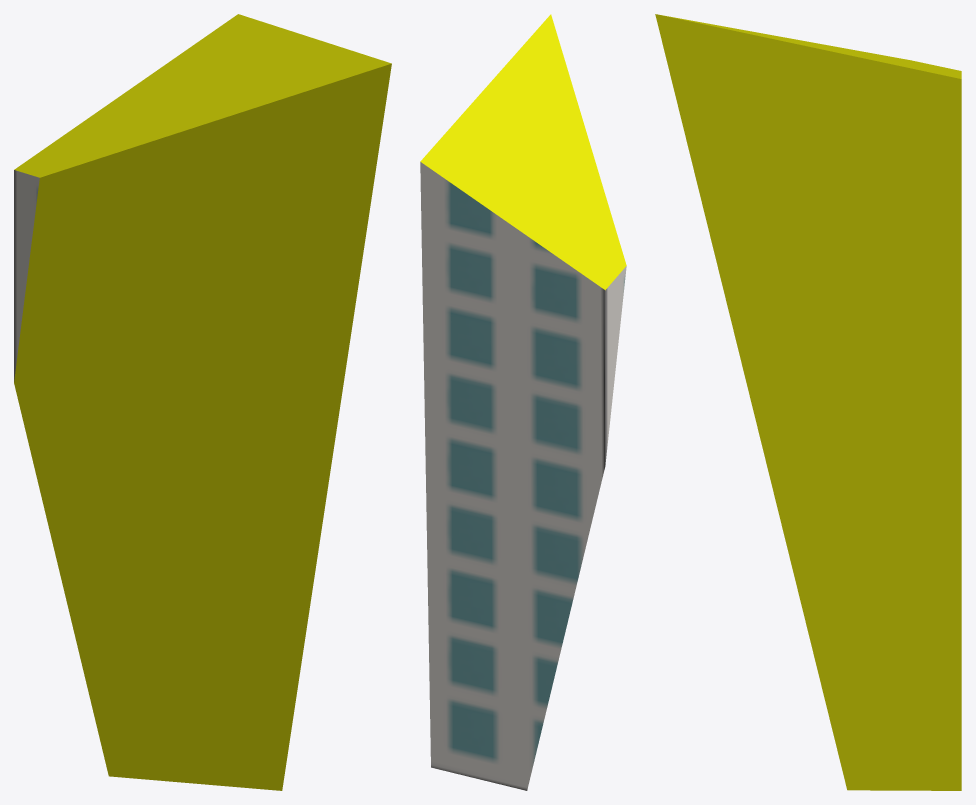
Rendered from paShard5.fbx.
The picture shows the model from 3 angles, left to right: view 1: azimuth 30°, elevation 25°; view 2: azimuth 150°, elevation 25°; view 3: azimuth 270°, elevation 25°; orthographic projection. The views are drawn at different scales.
Visible parts, largest first — view 1: shard18; view 2: shard18; view 3: shard18.
Part boxes in pixels (x1,y1,x2,y2): shard18: [14, 14, 391, 790]; shard18: [420, 14, 626, 790]; shard18: [655, 14, 961, 790].
Bounding box in the file's own units: 0.0643 × 0.218 × 0.0775.
2 materials, 1 textured.
